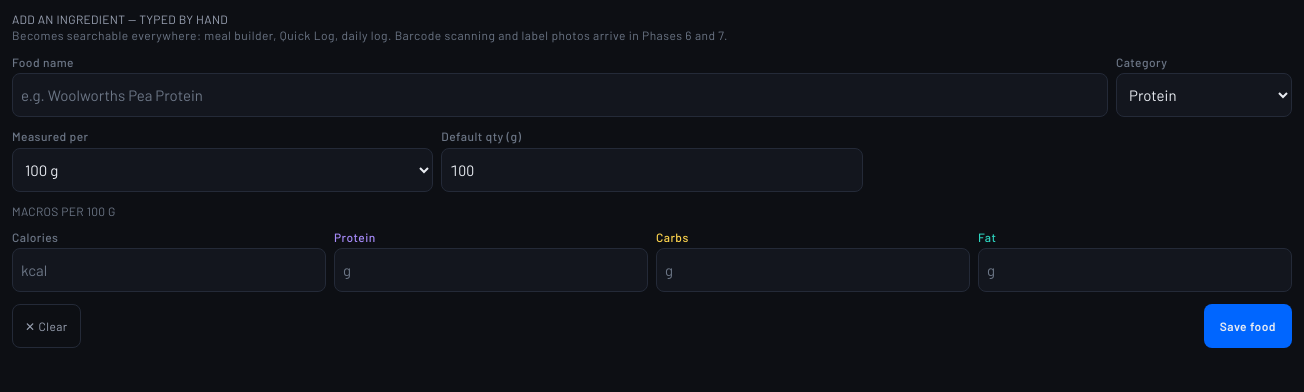
Scenario: AddCustomFood — SA comma decimals › rejects junk rather than letting parseFloat coerce it
The width and height of the screenshot is (1304, 392).
Type "Nonsense" into the field labelled "Food name".
click(560, 95); type("Nonsense")  # box [12,73,1108,117]
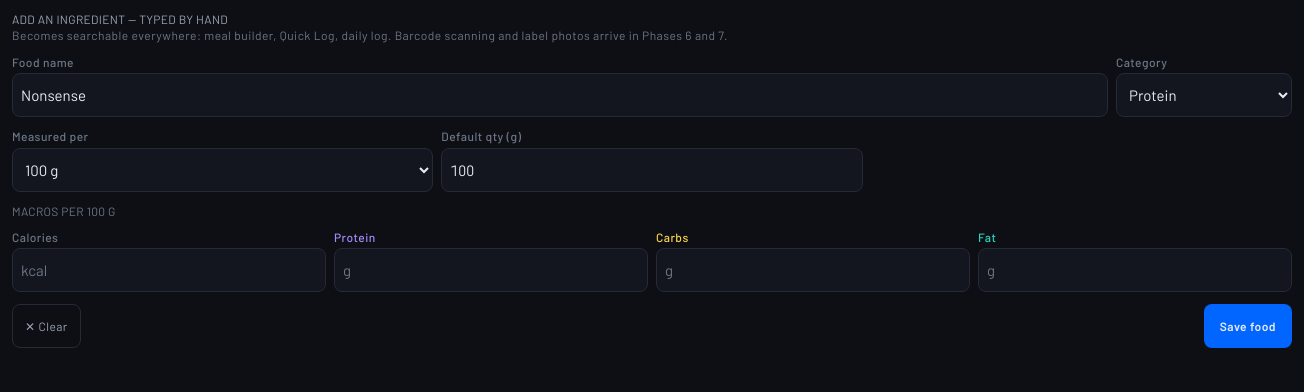
Type "12abc" into the field labelled "Calories".
click(169, 270); type("12abc")  # box [12,248,326,292]
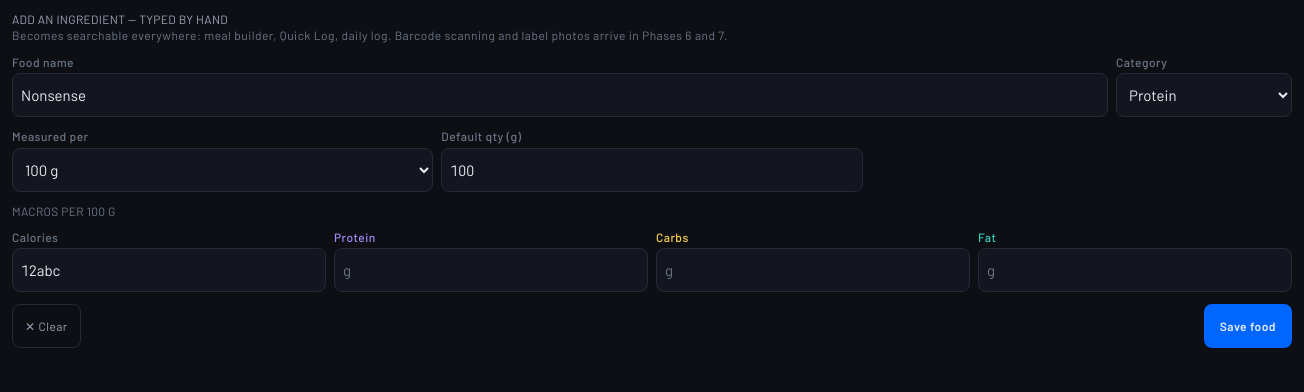
Click the button "Save food".
click(1248, 326)  # box [1204,304,1292,348]
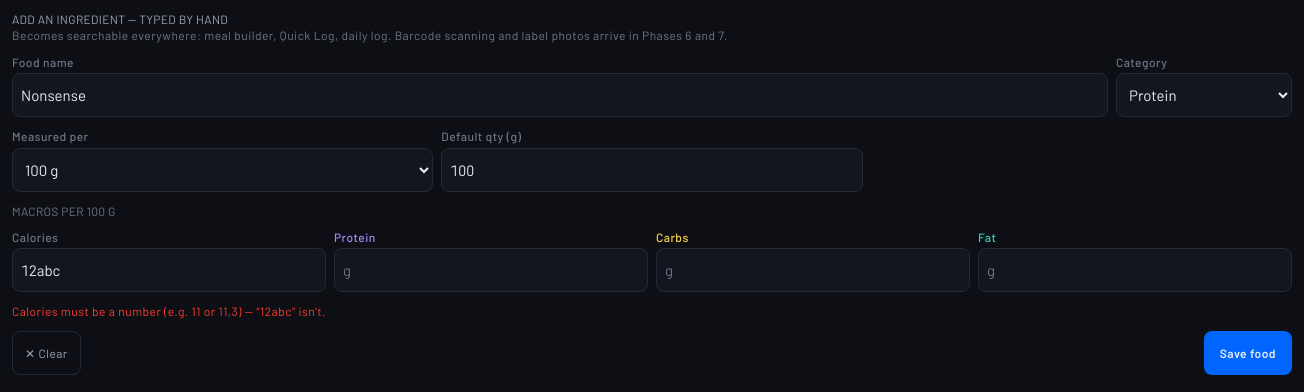
Expected: the text "must be a number" is shown, [12,304,326,318]
